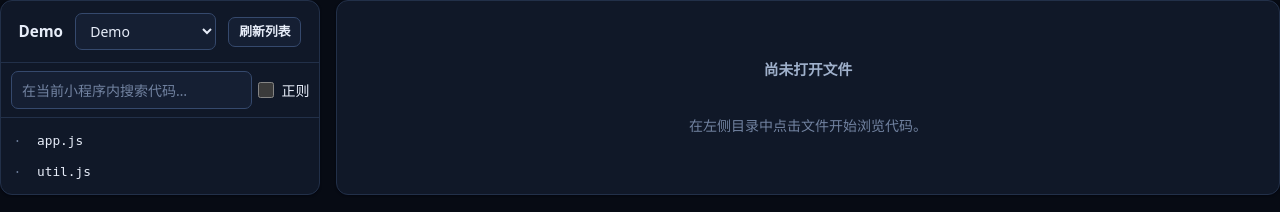
CodeBrowserView › closes every open tab at once
This screenshot has width=1280, height=212.
Click the button with test id "tree-C__out_app_js" at (60, 140), box [7,125,313,156]
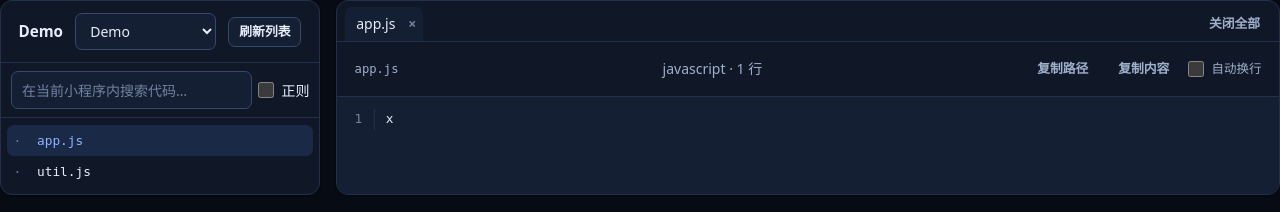
Click the button with test id "tree-C__out_util_js" at (64, 171), box [7,156,313,187]
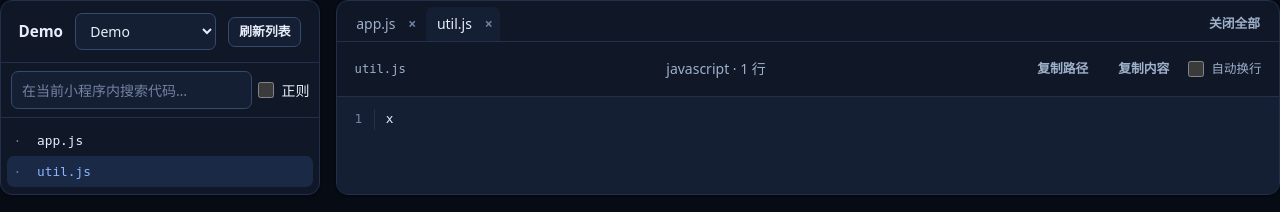
Click the button with class "tab-close-all" at (1234, 24), box [1198,9,1271,39]
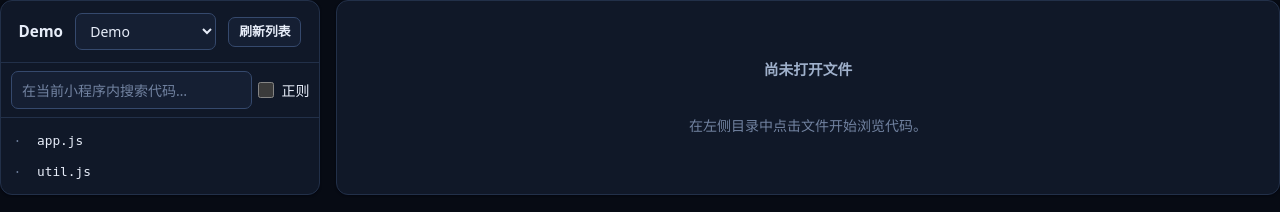
Result: no tabs with class "tab" are shown
Result: the text "尚未打开文件" is shown at [764,58,852,80]
